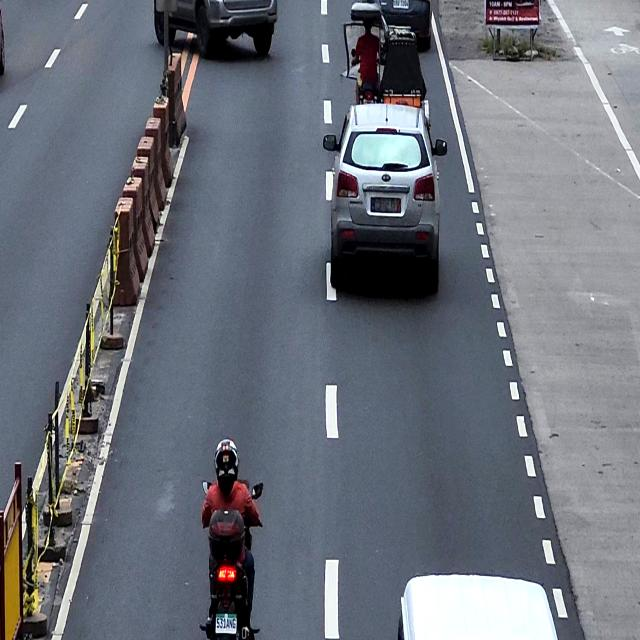Car: (323, 102, 447, 283), (153, 0, 278, 58), (360, 0, 432, 55)
License-Plate: (369, 195, 402, 216), (214, 611, 238, 635), (392, 0, 410, 9)
Motorcycle: (200, 479, 263, 639)
Tricycle: (343, 2, 432, 130)
